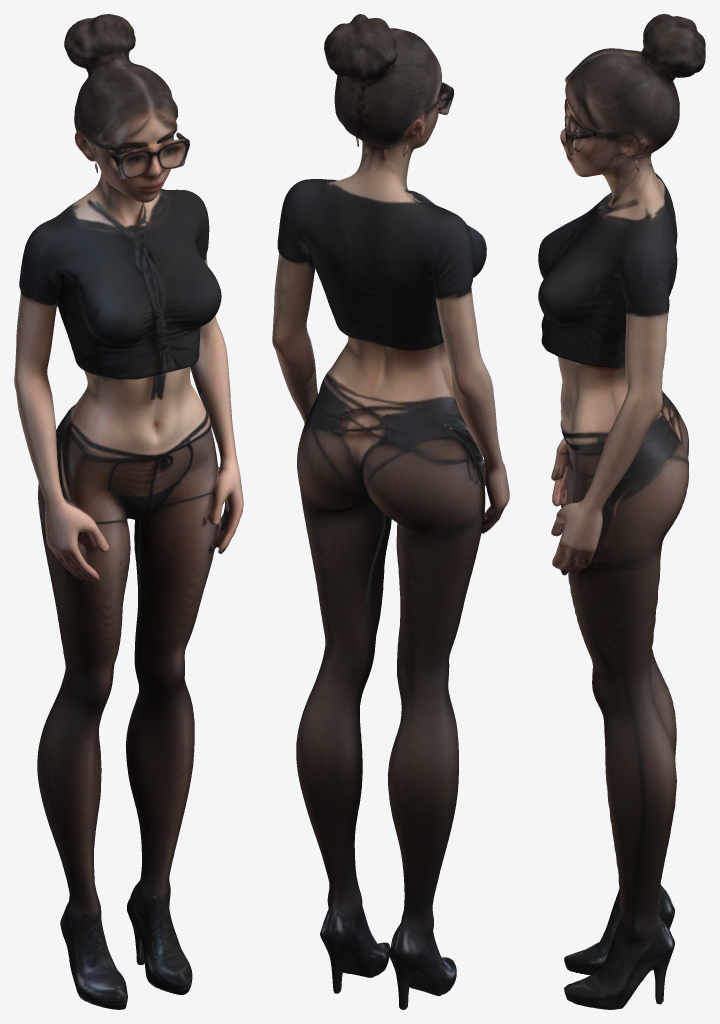
File: menina de óculos glb.glb
The picture shows the model from 3 angles, left to right: view 1: azimuth 30°, elevation 25°; view 2: azimuth 150°, elevation 25°; view 3: azimuth 270°, elevation 25°; orthographic projection. The views are drawn at different scales.
Size of the model in its own units: 0.4528 by 2 by 0.3134.
1 material, 1 textured.
